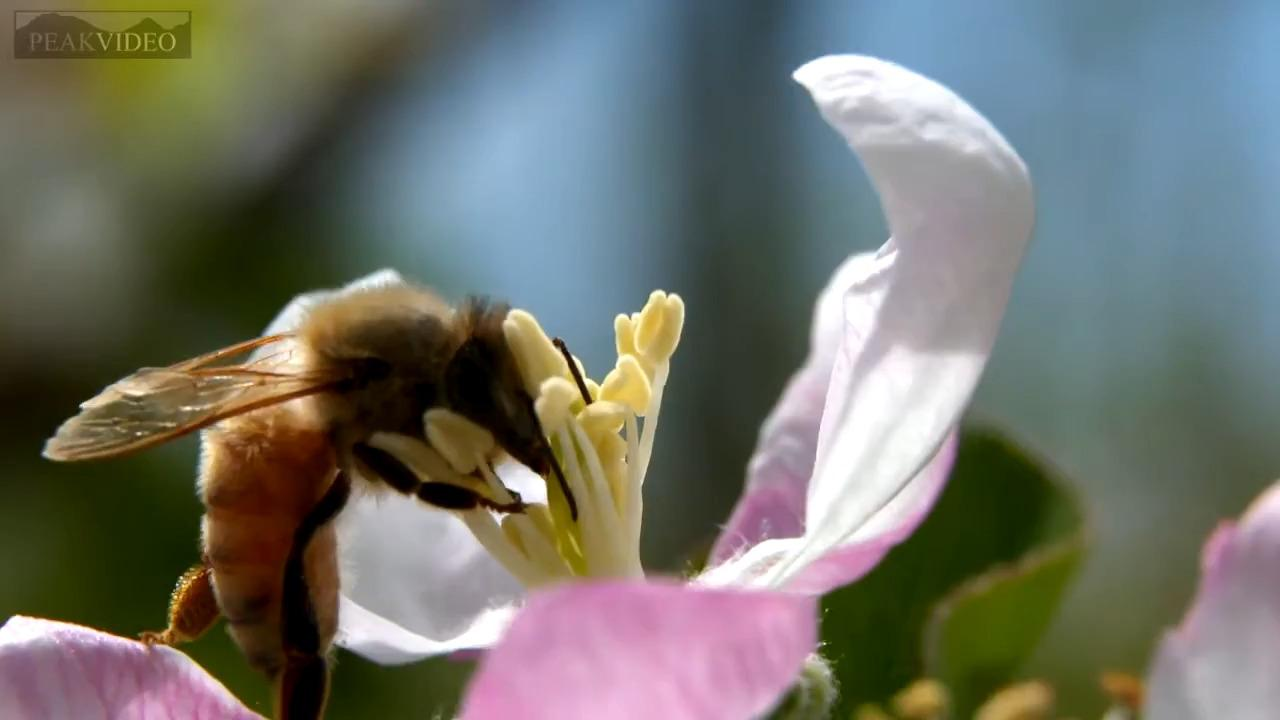pollenbee: (194, 284, 534, 674)
